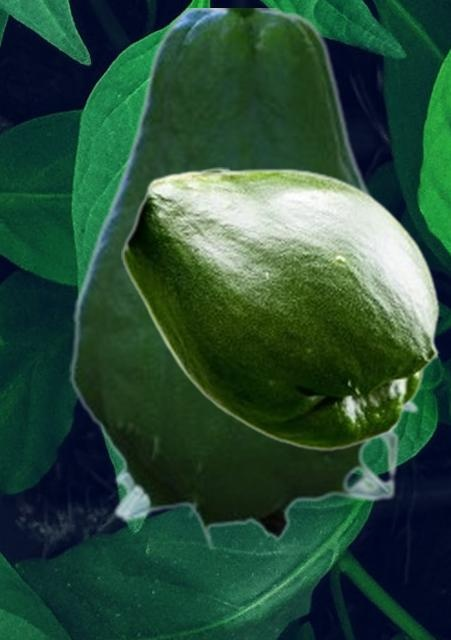sayote: (69, 8, 419, 550), (121, 167, 439, 450)
